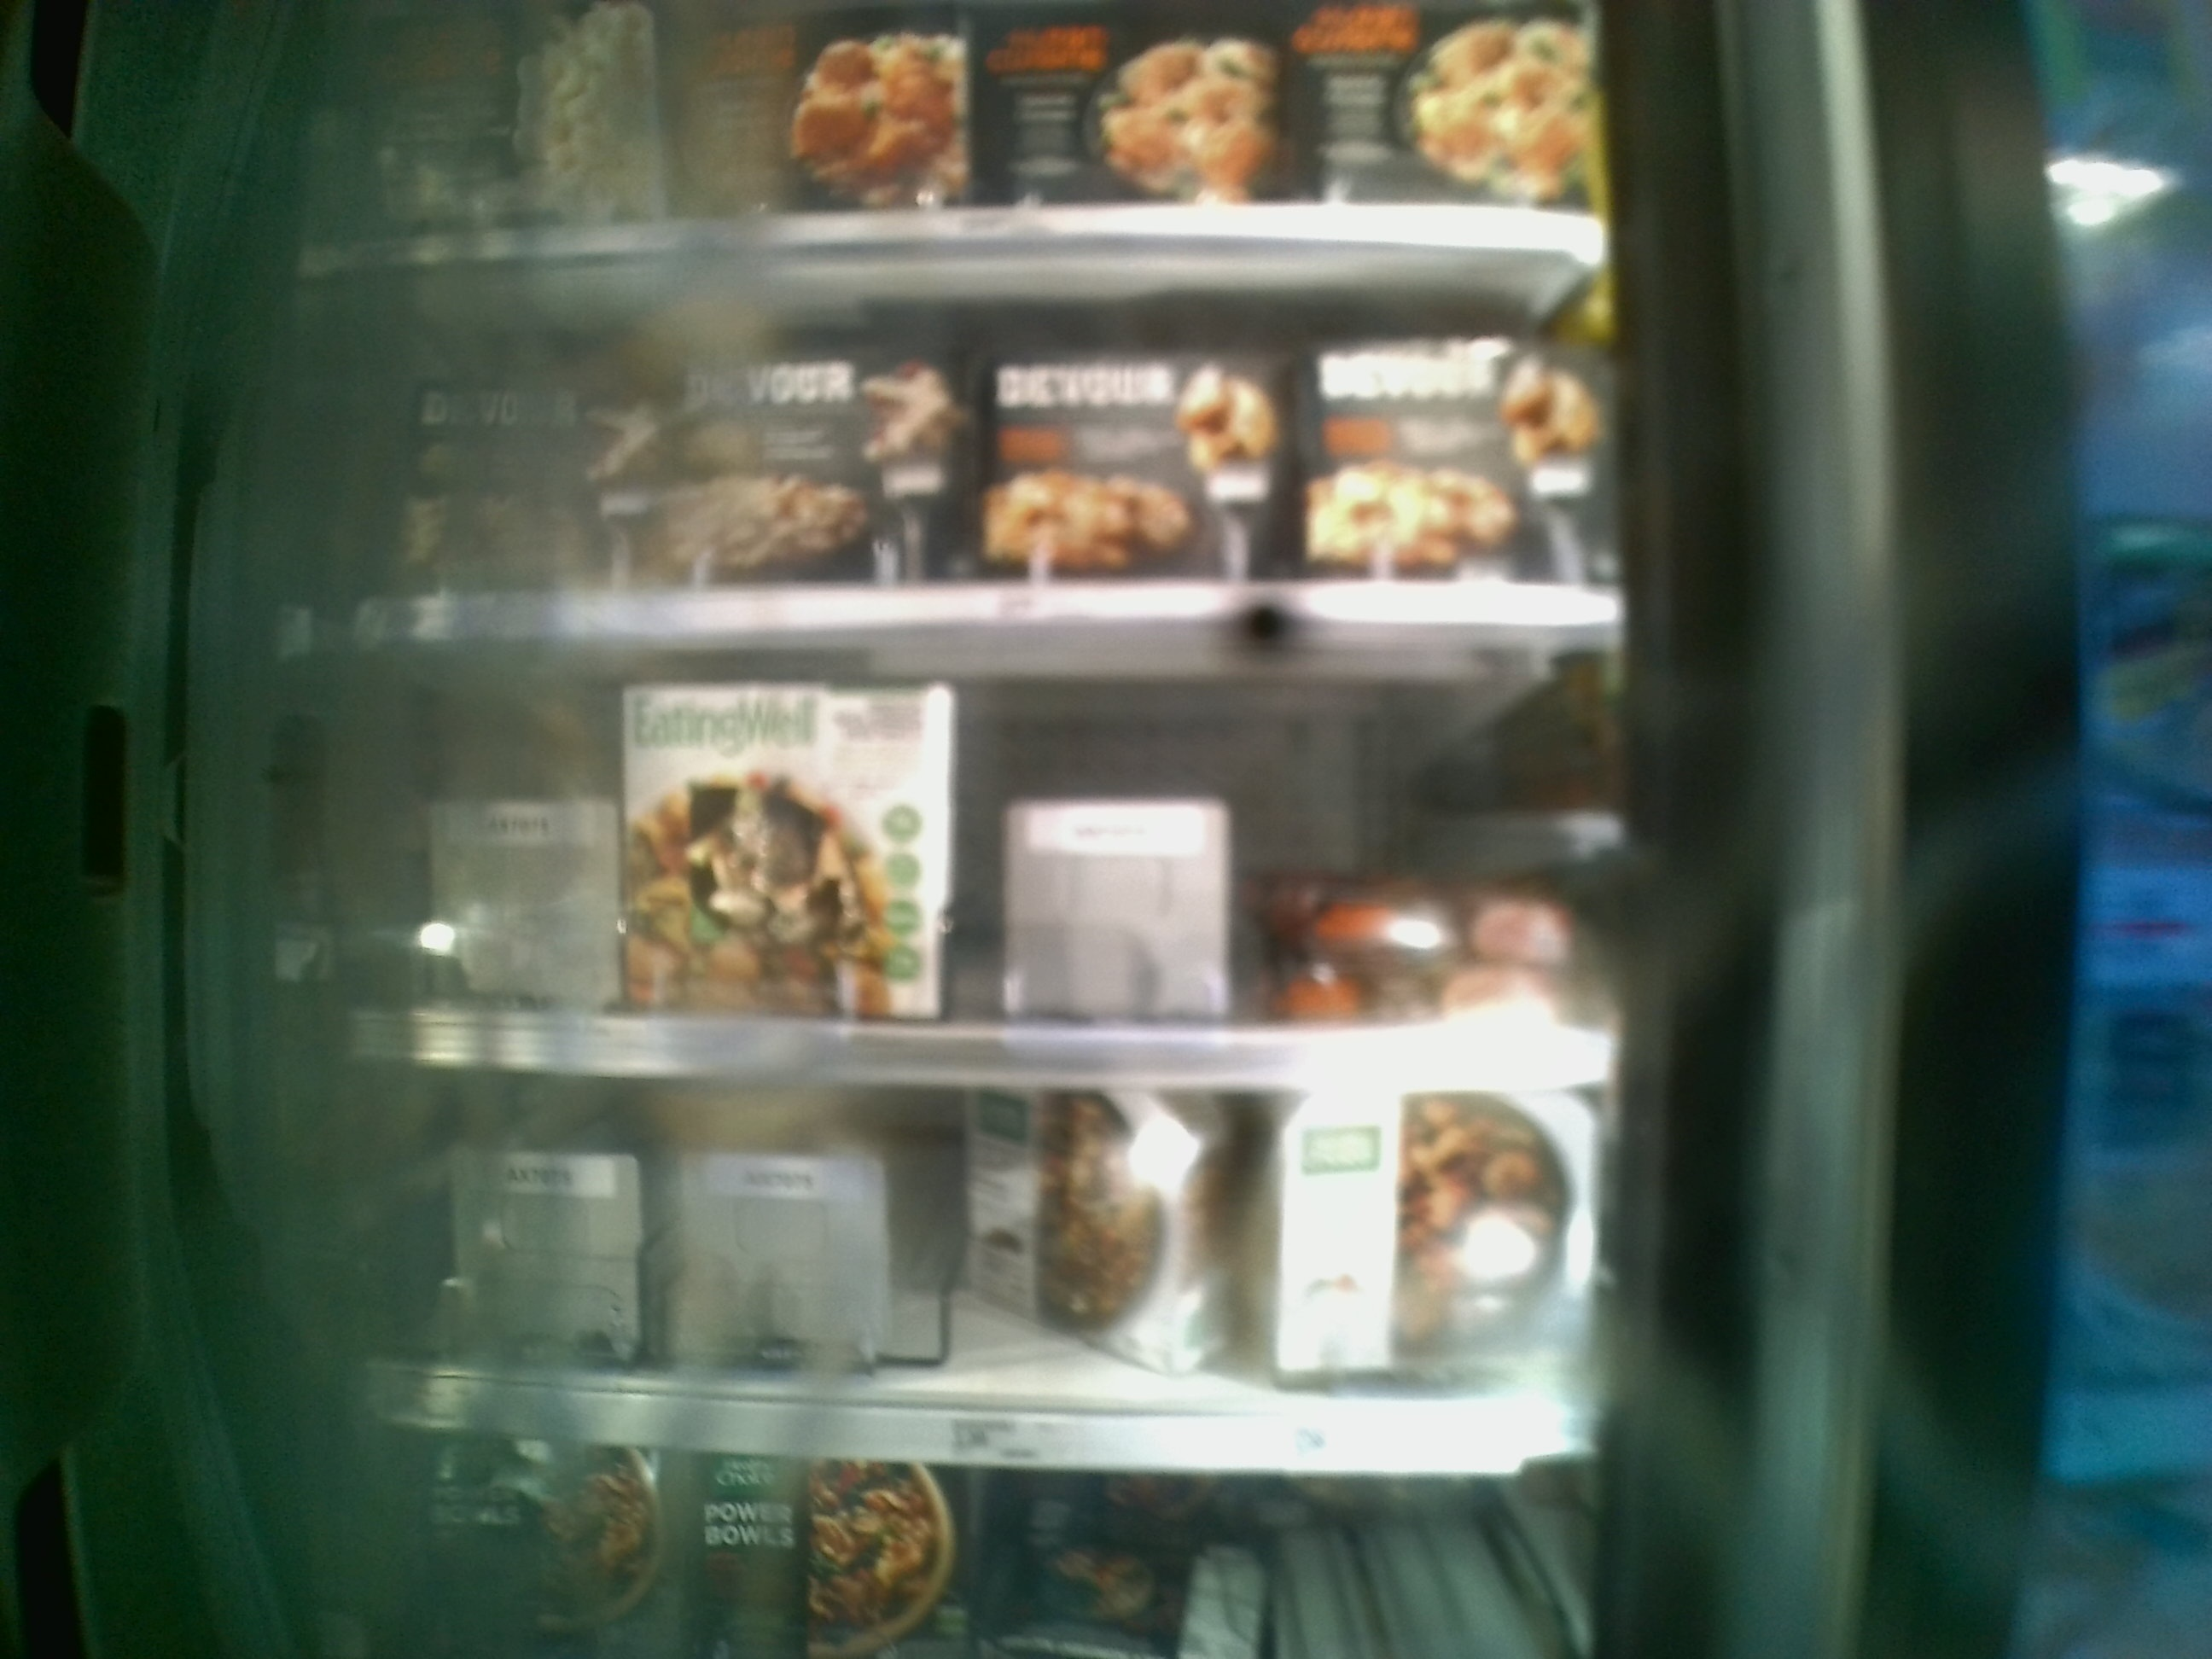shelf: (296, 627, 1622, 1075), (340, 1073, 1629, 1476), (291, 244, 1622, 617)
